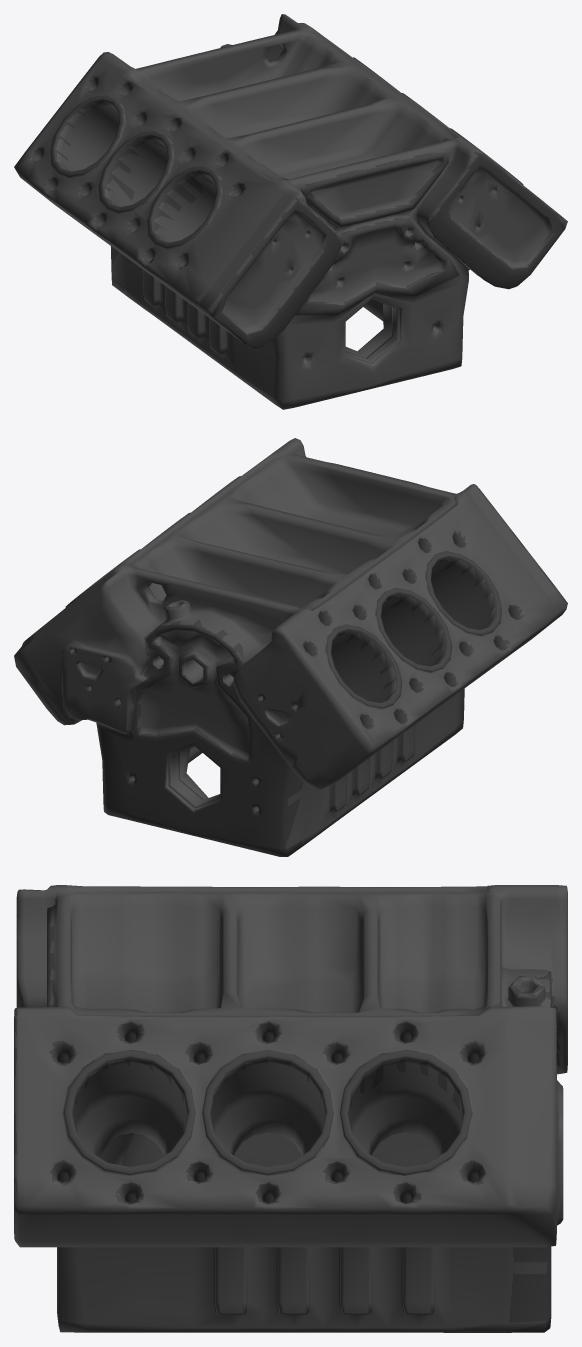
The model's file is CoreEngine.fbx.
3 renders of one model, top to bottom at view 1: azimuth 30°, elevation 25°; view 2: azimuth 150°, elevation 25°; view 3: azimuth 270°, elevation 25°, orthographic. The views are drawn at different scales.
Visible parts, largest first — view 1: 13474_V6_Engine_Block_v1_l2; view 2: 13474_V6_Engine_Block_v1_l2; view 3: 13474_V6_Engine_Block_v1_l2.
Boxes of the visible parts, bbox=[...] form: 13474_V6_Engine_Block_v1_l2: bbox=[14, 14, 567, 409]; 13474_V6_Engine_Block_v1_l2: bbox=[14, 438, 567, 856]; 13474_V6_Engine_Block_v1_l2: bbox=[14, 885, 567, 1332].
Bounding box in the file's own units: 5613 × 3351 × 5201.
